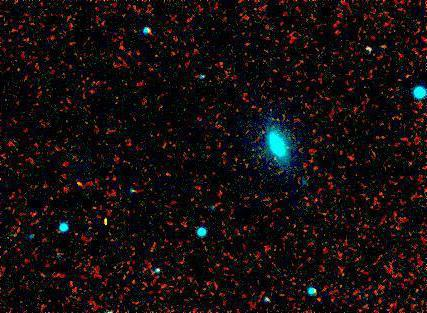star: (65, 166, 95, 196)
